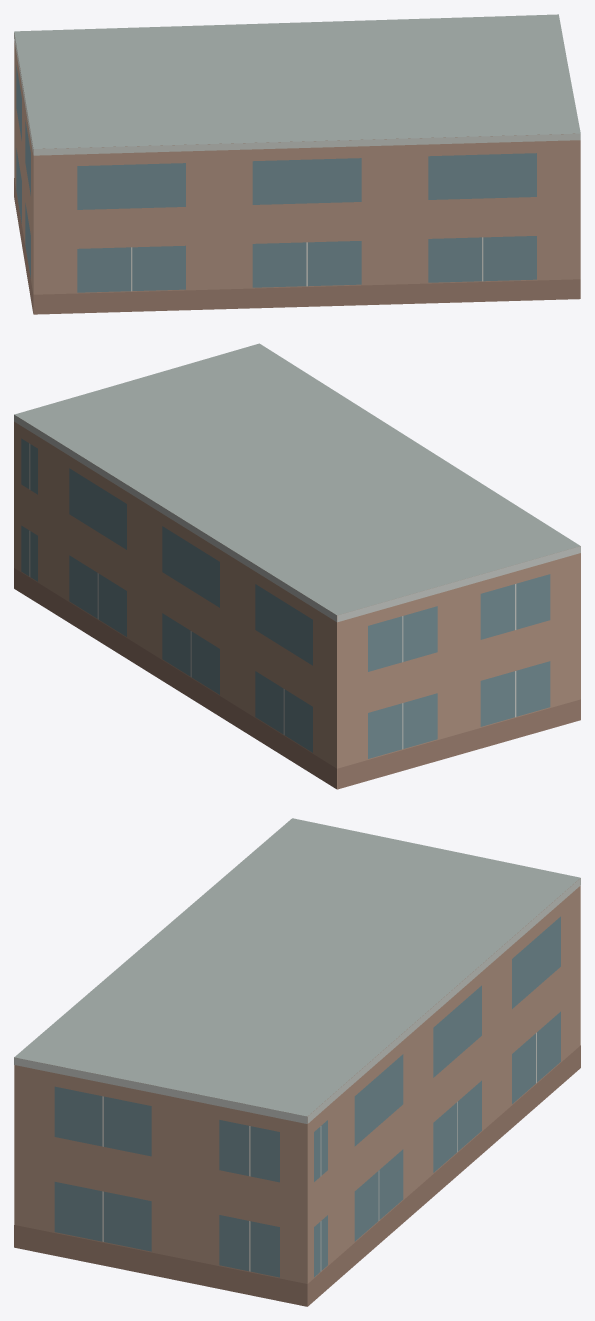
File: survey-upis-32491915.glb
The picture shows the model from 3 angles, top to bottom: view 1: azimuth 30°, elevation 25°; view 2: azimuth 150°, elevation 25°; view 3: azimuth 270°, elevation 25°; orthographic projection. The views are drawn at different scales.
Parts seen in each view (by area): view 1: survey-upis-32491915.tmp; view 2: survey-upis-32491915.tmp; view 3: survey-upis-32491915.tmp.
Part boxes in pixels (<box>): survey-upis-32491915.tmp: <box>14,14,580,314</box>; survey-upis-32491915.tmp: <box>14,343,580,789</box>; survey-upis-32491915.tmp: <box>14,818,580,1306</box>.
Bounding box in the file's own units: 20.54 × 6.1 × 16.48.
